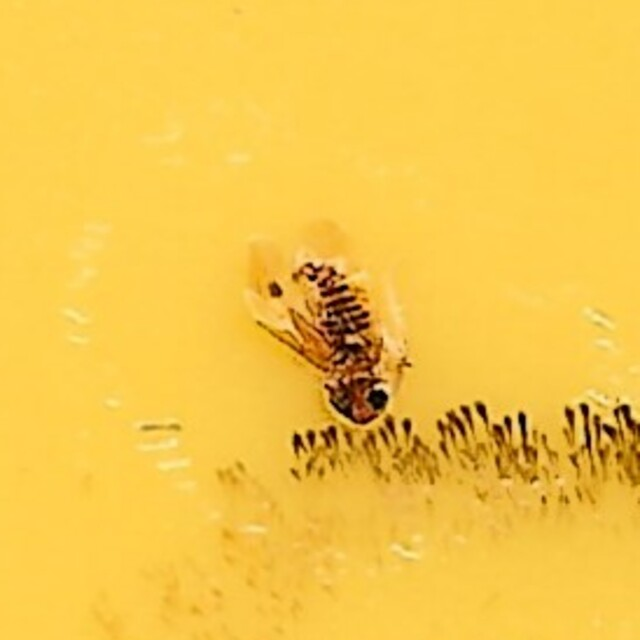Hemiptera: (234, 210, 406, 430)
